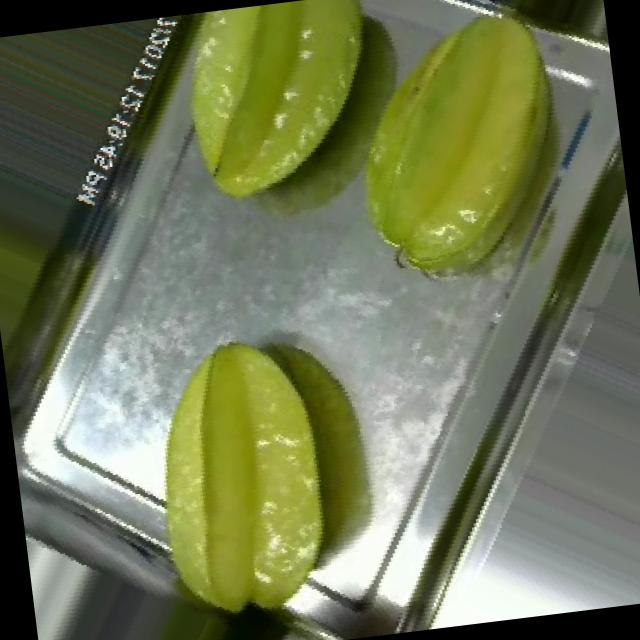fruit: (278, 0, 627, 338), (82, 283, 411, 640), (131, 0, 434, 261), (0, 98, 129, 426)
